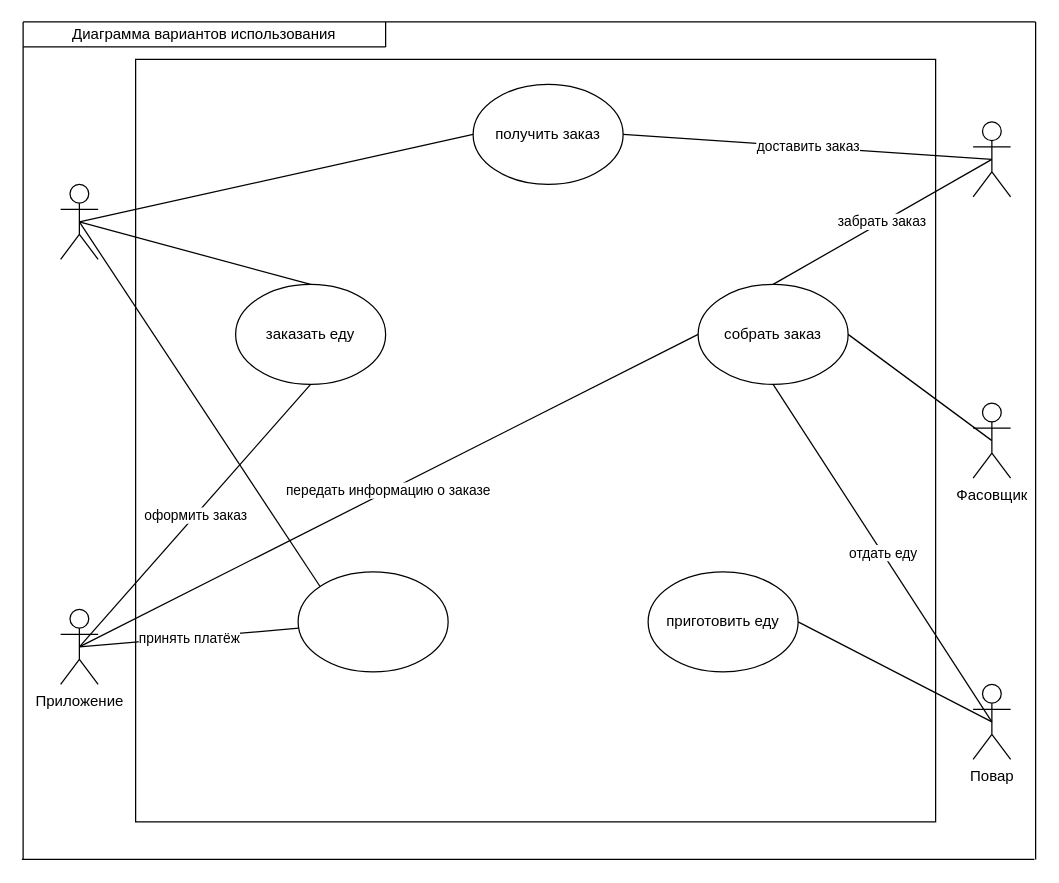
The diagram is 1059 pixels wide and 883 high, and some of its shapes have lost their labels. Here are the shapes that lost their labels. From the top down, the centre of each, then its label:
At point 991,159: "Курьер".
At point 78,221: "Пользователь".
At point 372,621: "оплатить заказ".
